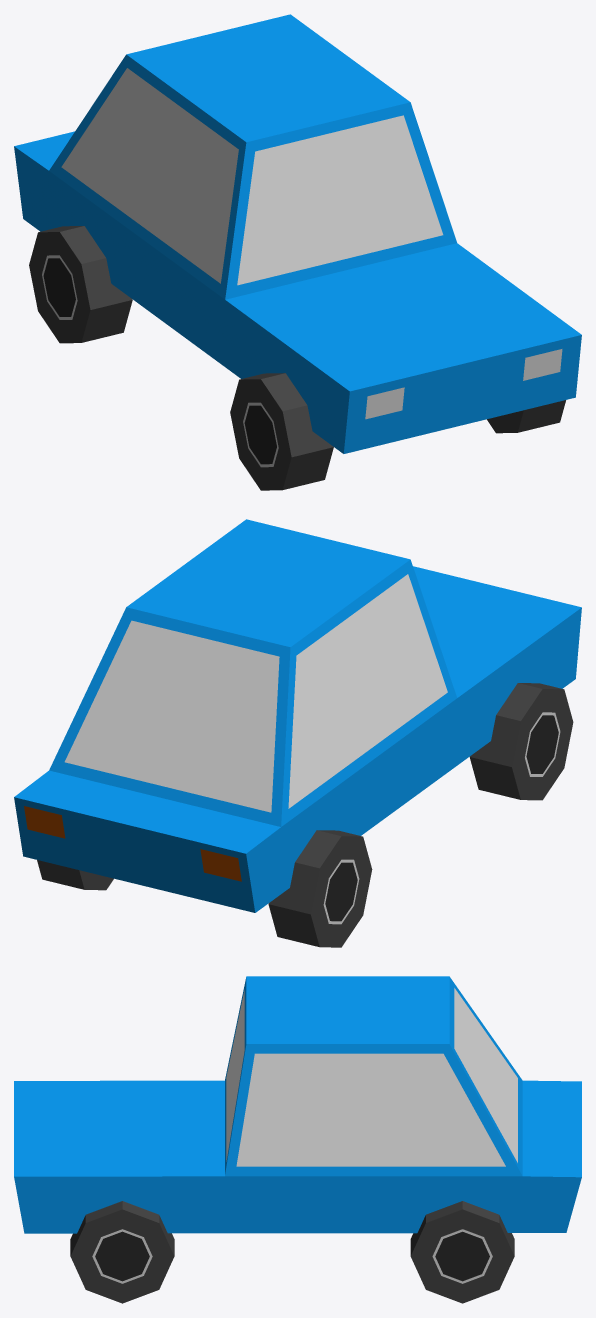
Rendered from C_Car_01.fbx.
3 views of the same model, one above another, from view 1: azimuth 30°, elevation 25°; view 2: azimuth 150°, elevation 25°; view 3: azimuth 270°, elevation 25° (orthographic). The views are drawn at different scales.
Visible parts, largest first — view 1: Car_01, wheel_1_1, wheel_1_2, wheel_1_4; view 2: Car_01, wheel_1_2, wheel_1_1, wheel_1_3; view 3: Car_01, wheel_1_3, wheel_1_4.
Part boxes in pixels (x1,y1,x2,y2): Car_01: (14,14,581,453); wheel_1_1: (230,373,333,490); wheel_1_2: (29,226,132,343); wheel_1_4: (487,400,565,433); Car_01: (14,519,581,912); wheel_1_2: (268,830,372,947); wheel_1_1: (469,683,573,800); wheel_1_3: (37,860,113,890); Car_01: (14,976,581,1233); wheel_1_3: (410,1201,514,1303); wheel_1_4: (70,1201,174,1303).
Bounding box in the file's own units: 19.22 × 18.56 × 40.31.
